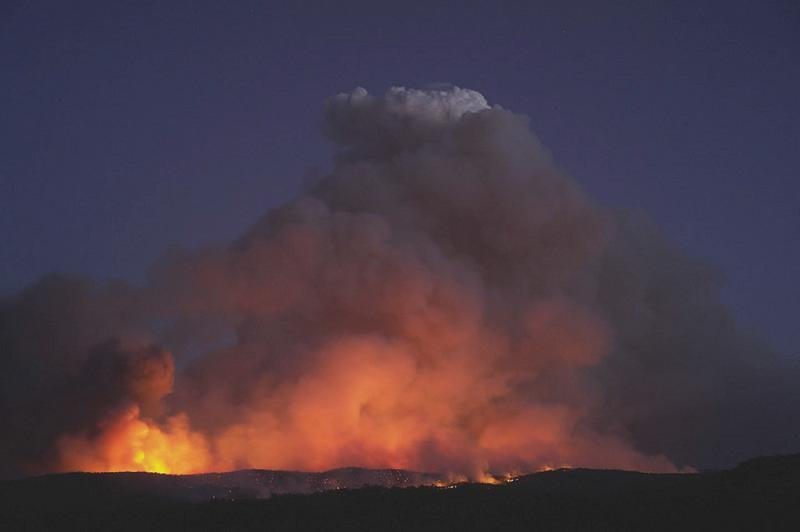Fire: (130, 446, 174, 477)
